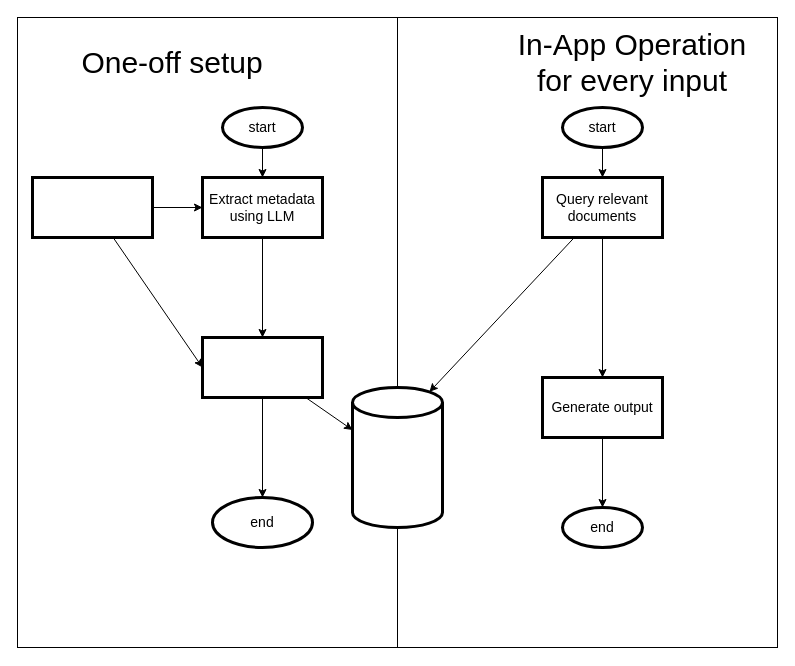
Image size: 795x666. Some labels were removed from this diagram. The centre of each missing label's shape, as x and y in pixels:
"Generate documents for encoding" goes at (x=262, y=367).
"IM8 Reform Catalog" goes at (x=92, y=207).
"vector DB for documents" goes at (x=397, y=457).
